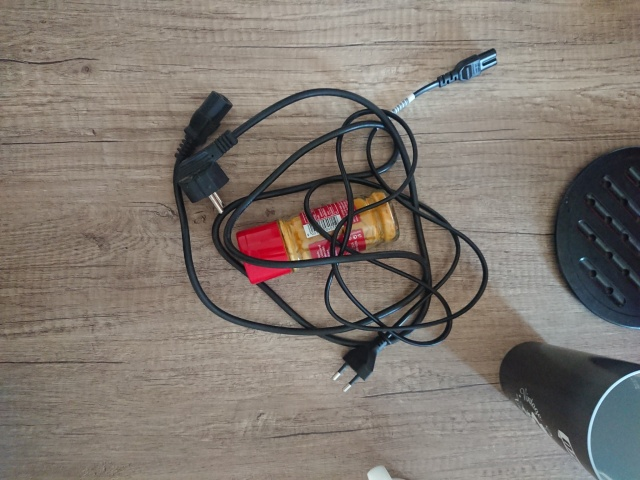Kotanyi Curry Spices Mix 70g: (233, 187, 402, 287)
